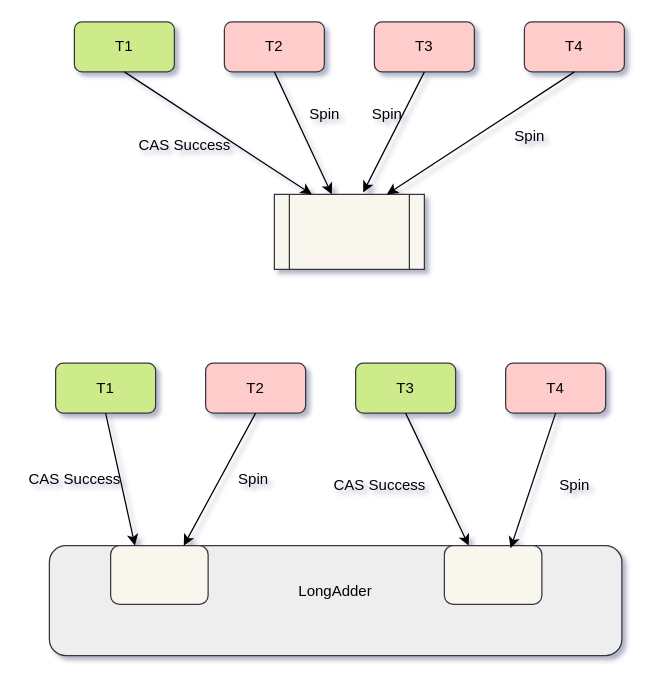
Some shapes in this 654 by 685 pixel diagram are drawn without their labels. Each missing label, with the centre of its shape:
"AtomicLong (var1)" belongs at (348,231).
"var1" belongs at (158,574).
"var2" belongs at (492,574).
